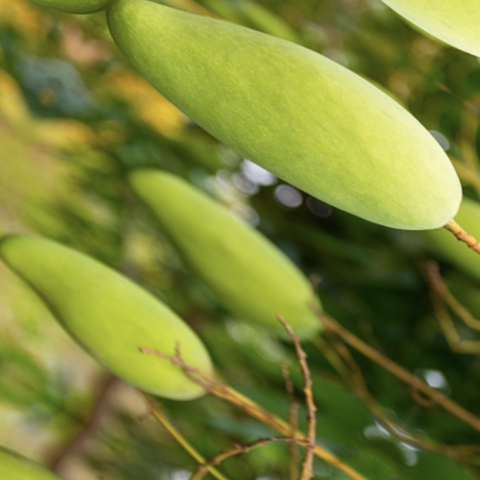mango: (69, 0, 480, 297), (76, 134, 362, 373), (0, 200, 245, 437)
